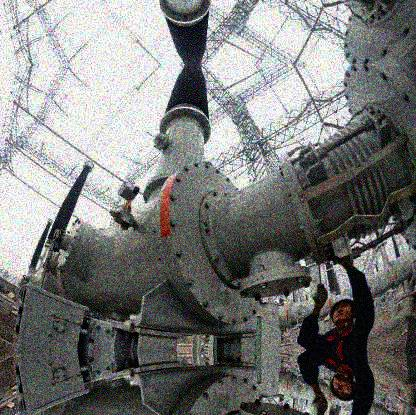helmet: (328, 370, 358, 406), (329, 294, 355, 328)
